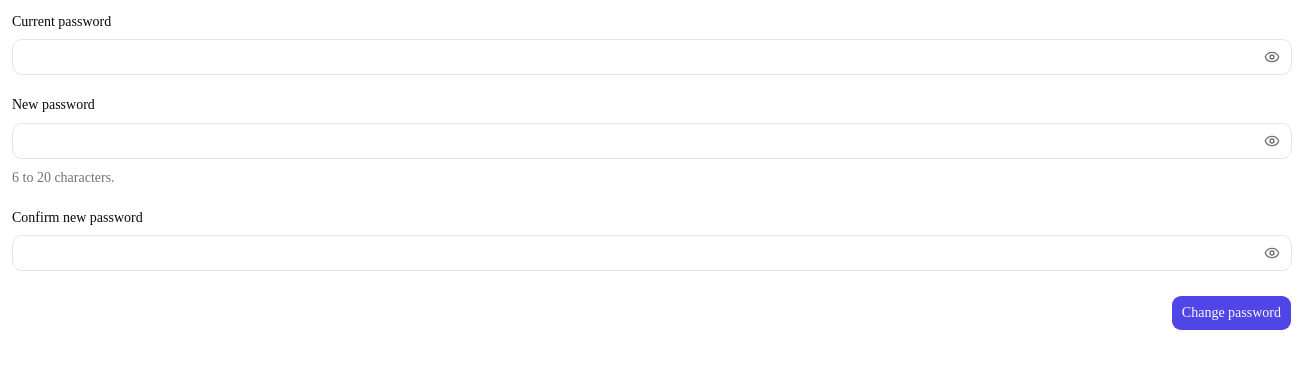
Test: ChangePasswordForm › shows a wrong current password under that field
Type "wrong1" into the password field labelled "Current password" at x=634, y=57, box [13, 40, 1256, 74]
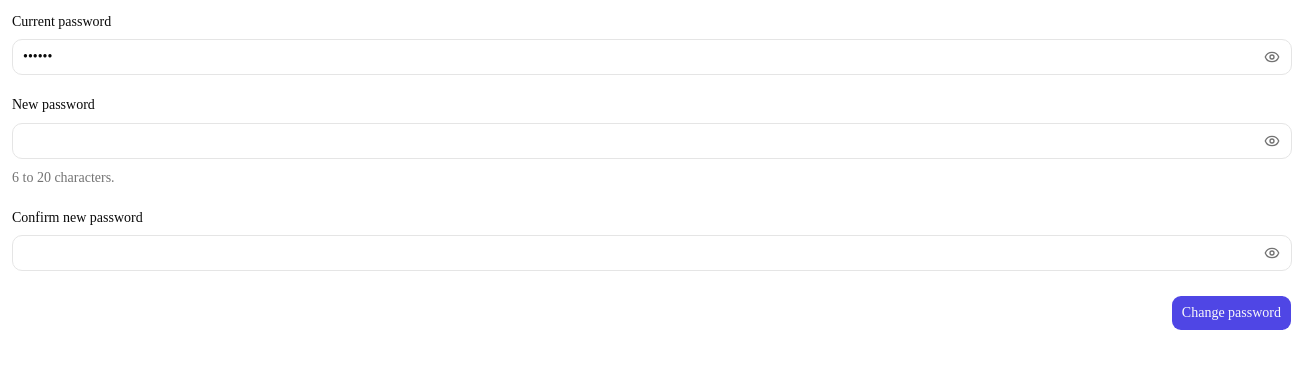
Type "secret22" into the password field labelled "New password" at x=634, y=140, box [13, 124, 1256, 158]
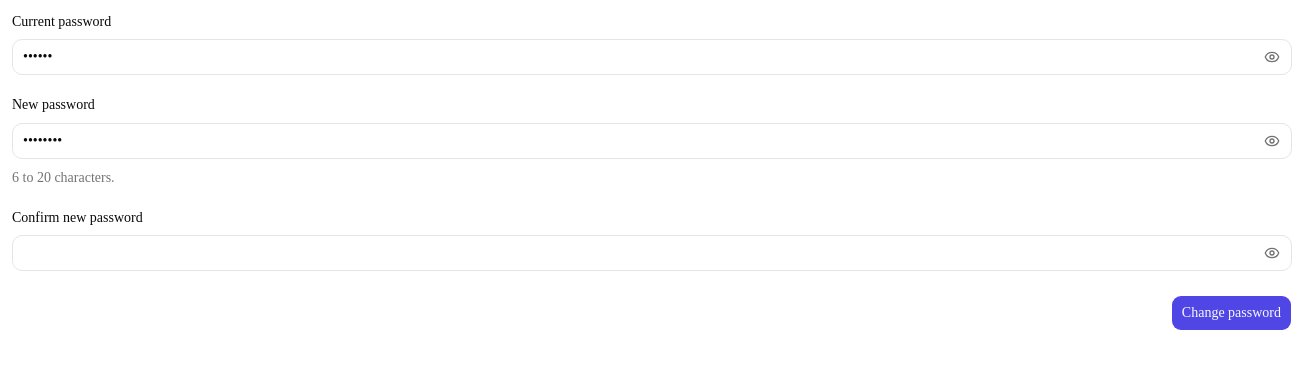
Type "secret22" into the password field labelled "Confirm new password" at x=634, y=253, box [13, 236, 1256, 270]
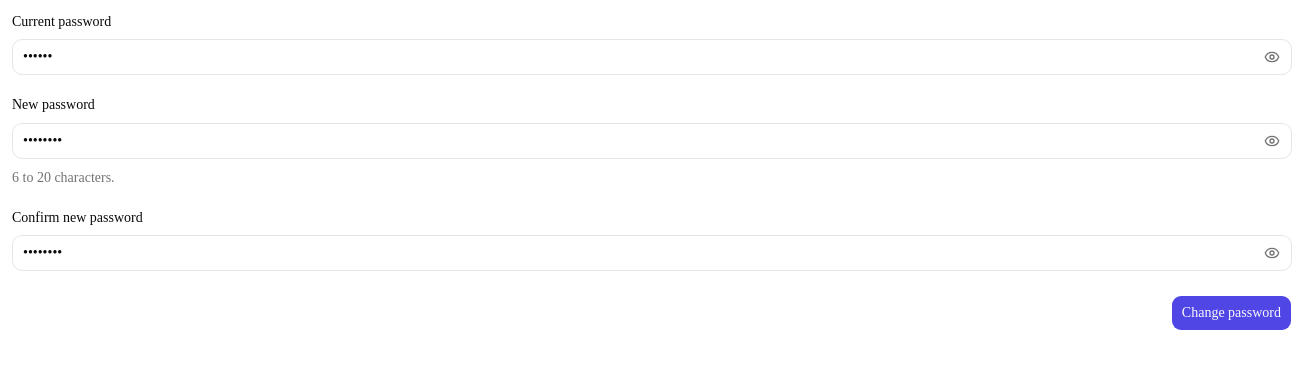
Click the button "Change password" at x=1231, y=313, box [1171, 295, 1292, 331]
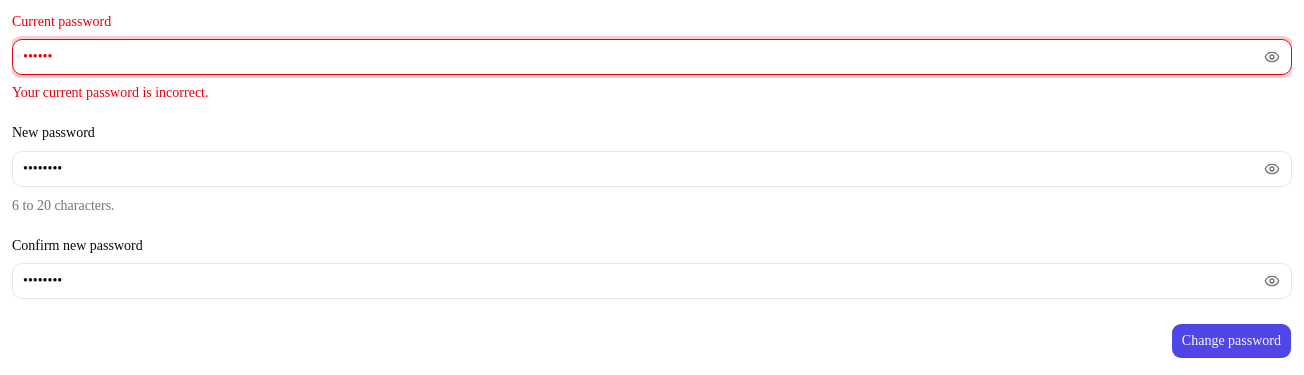
Check: the text "Your current password is incorrect." is shown, box [12, 85, 208, 100]
